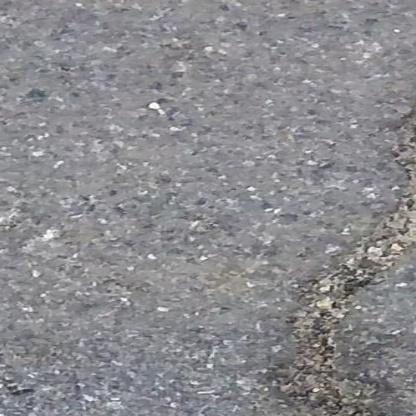Cracks: (277, 76, 416, 416)
